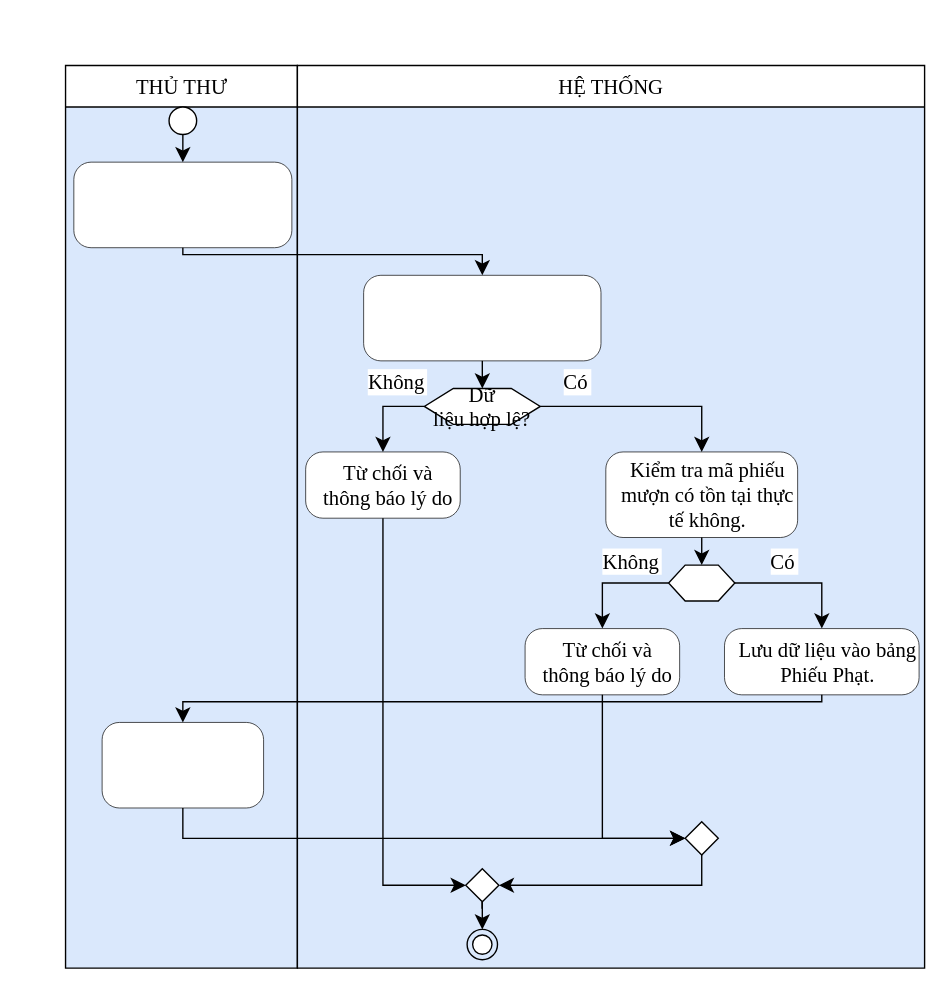
The diagram is 948 pixels wide and 992 high, and some of its shapes have lost their labels. The centre of each missing label's shape, as x and y in pixels:
Kiểm tra tính hợp lệ dữ liệu (số tiền > 0, không bỏ trống).: the point at 482,317
Nhận thông báo thành công và in biên lai phạt.: the point at 182,764
Nhập thông tin vi phạm (Mã phiếu mượn, Lý do phạt, Số tiền).: the point at 182,204
Tồn tại?: the point at 701,582
